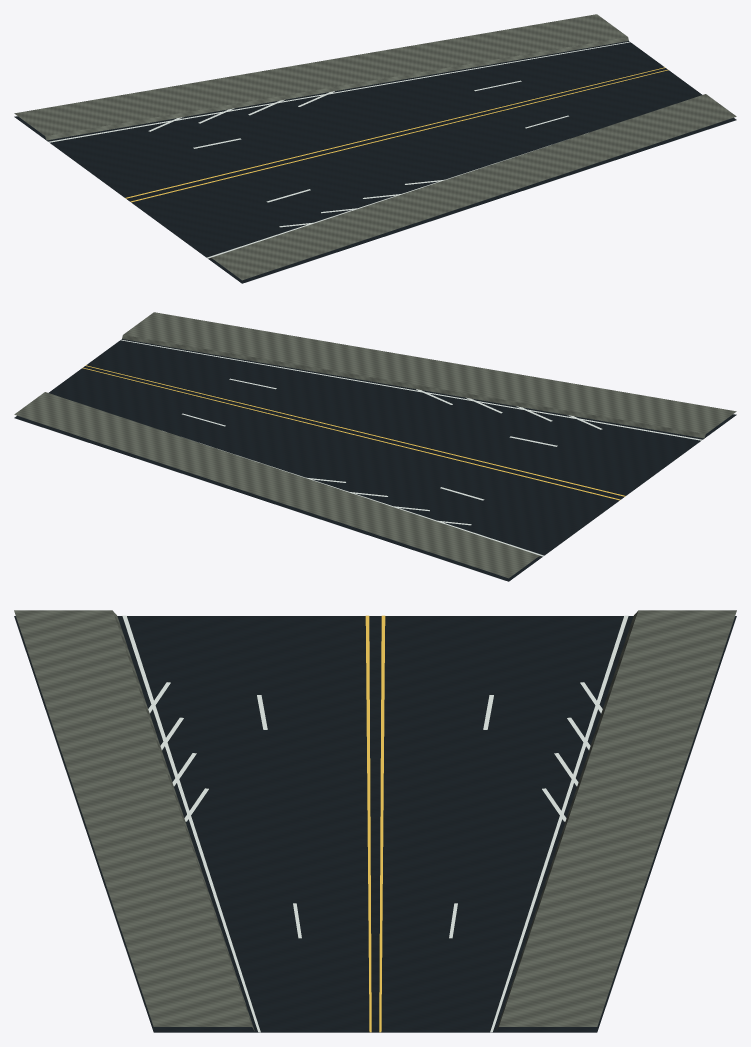
Rendered from road_taper_4to2_24m_LOD1.glb.
3 renders of one model, top to bottom at view 1: azimuth 30°, elevation 25°; view 2: azimuth 150°, elevation 25°; view 3: azimuth 270°, elevation 25°, orthographic. The views are drawn at different scales.
Parts seen in each view (by area): view 1: road_taper_4to2_24m__surface.001, road_taper_4to2_24m__markings.001; view 2: road_taper_4to2_24m__surface.001, road_taper_4to2_24m__markings.001; view 3: road_taper_4to2_24m__surface.001, road_taper_4to2_24m__markings.001.
Part boxes in pixels (left/top/right/bottom): road_taper_4to2_24m__surface.001: left=14, top=14, right=736, bottom=283; road_taper_4to2_24m__markings.001: left=48, top=41, right=668, bottom=258; road_taper_4to2_24m__surface.001: left=14, top=312, right=736, bottom=581; road_taper_4to2_24m__markings.001: left=82, top=339, right=702, bottom=556; road_taper_4to2_24m__surface.001: left=14, top=610, right=736, bottom=1032; road_taper_4to2_24m__markings.001: left=122, top=615, right=628, bottom=1032.
Size of the model in its own units: 24 by 0.145 by 17.6.
5 materials, 3 textured.
